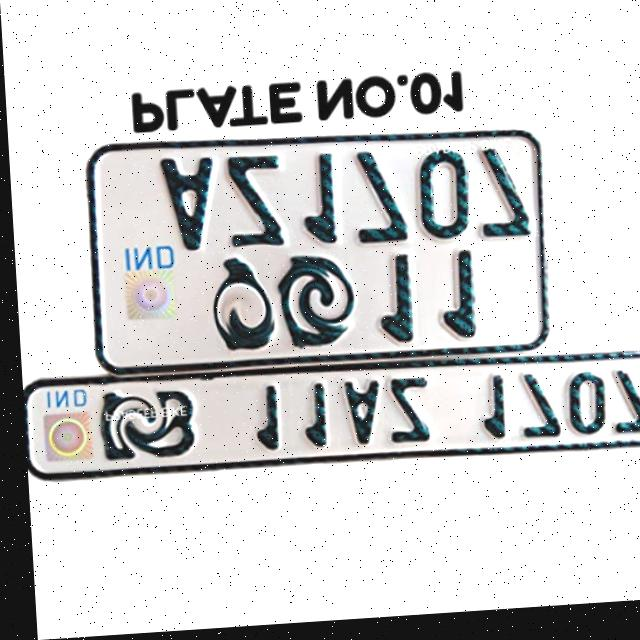plate: (81, 128, 551, 376), (18, 357, 640, 488)
